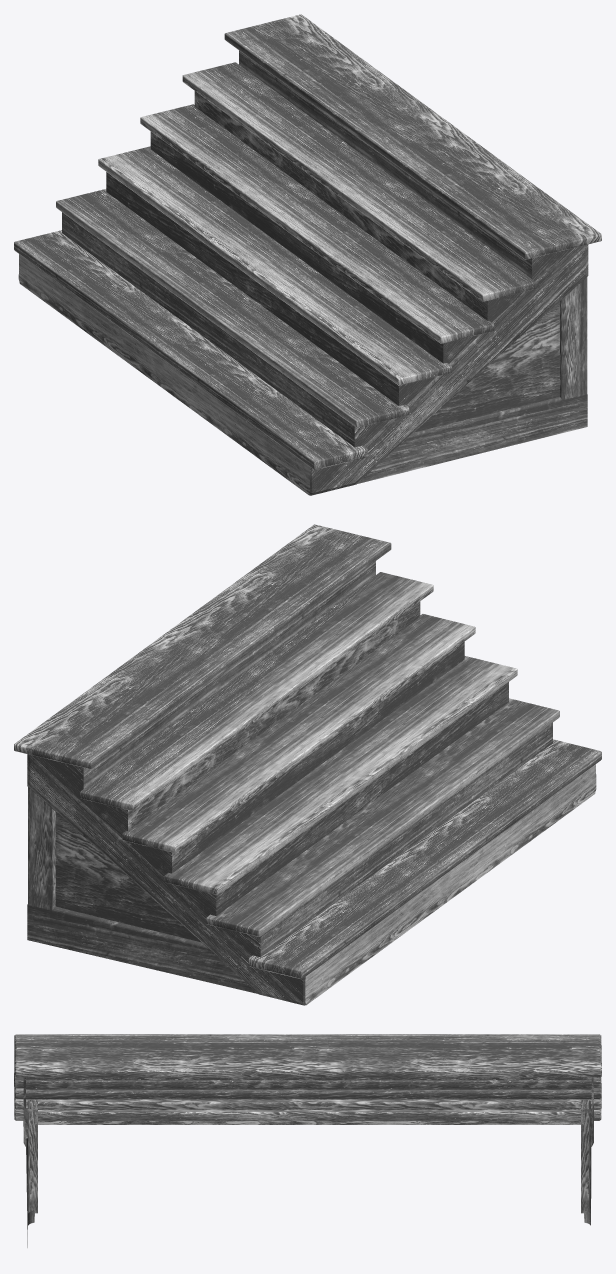
File: SM_Terrace_Stairs_A3_Splines_43.fbx
3 renders of one model, top to bottom at view 1: azimuth 30°, elevation 25°; view 2: azimuth 150°, elevation 25°; view 3: azimuth 270°, elevation 25°, orthographic. The views are drawn at different scales.
Visible parts, largest first — view 1: SM_Terrace_Stairs_A3_Splines_43; view 2: SM_Terrace_Stairs_A3_Splines_43; view 3: SM_Terrace_Stairs_A3_Splines_43.
Boxes of the visible parts, x1,y1,x2,y2 form: SM_Terrace_Stairs_A3_Splines_43: (14,14,601,495); SM_Terrace_Stairs_A3_Splines_43: (14,524,601,1005); SM_Terrace_Stairs_A3_Splines_43: (14,1034,601,1247).
Bounding box in the file's own units: 132 × 240 × 86.94.
3 materials, 3 textured.
